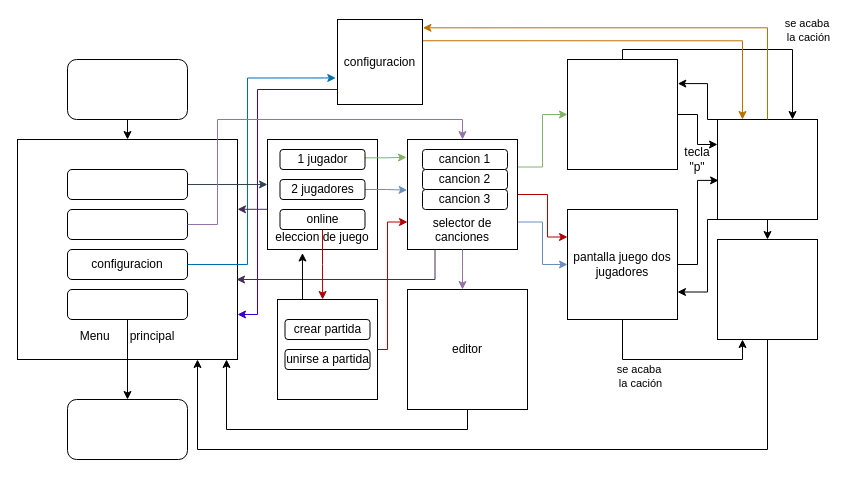
The diagram is 849 pixels wide and 477 high, and some of its shapes have lost their labels. Here are the shapes that lost their labels. From the top down, the centre of each, then its label:
the point at 127,89: Ejecucion de main()
the point at 622,114: pantalla de juego un jugador
the point at 127,184: jugar
the point at 767,169: pausa
the point at 127,224: grabar
the point at 127,304: salir
the point at 767,289: puntuaciones
the point at 127,429: System.exit(0)
